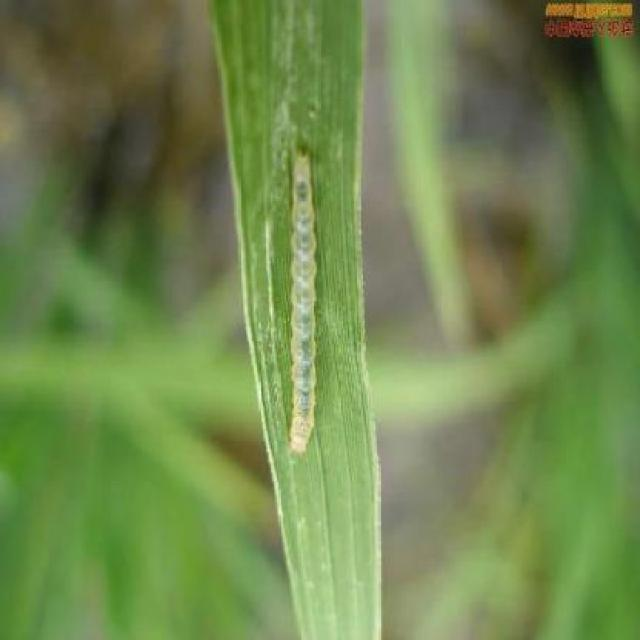leaf-folder: (274, 92, 346, 486)
